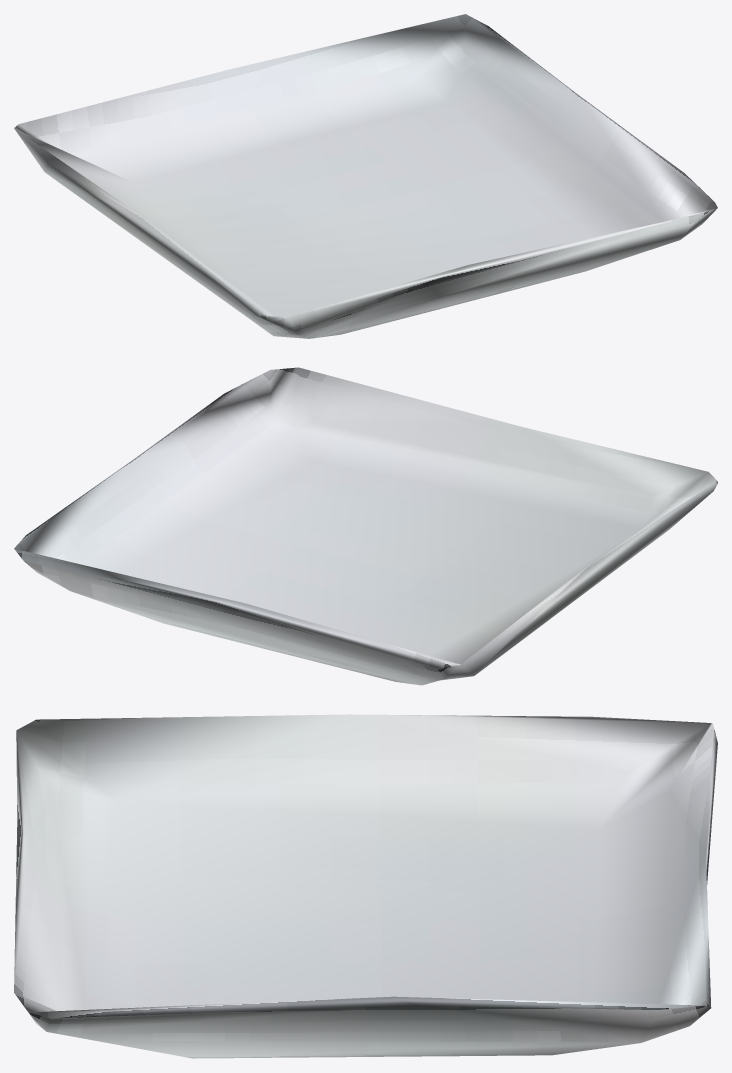
Rendered from Threshold_Salad_Plate_Square_Rim_Porcelain-low.glb.
3 renders of one model, top to bottom at view 1: azimuth 30°, elevation 25°; view 2: azimuth 150°, elevation 25°; view 3: azimuth 270°, elevation 25°, orthographic. The views are drawn at different scales.
Visible parts, largest first — view 1: Threshold_Salad_Plate_Square_Rim_Porcelain; view 2: Threshold_Salad_Plate_Square_Rim_Porcelain; view 3: Threshold_Salad_Plate_Square_Rim_Porcelain.
Part boxes in pixels (x1,y1,x2,y2): Threshold_Salad_Plate_Square_Rim_Porcelain: (14, 14, 717, 338); Threshold_Salad_Plate_Square_Rim_Porcelain: (14, 367, 717, 685); Threshold_Salad_Plate_Square_Rim_Porcelain: (14, 714, 717, 1058).
Size of the model in its own units: 0.2119 by 0.034 by 0.2098.
1 material, 1 textured.
